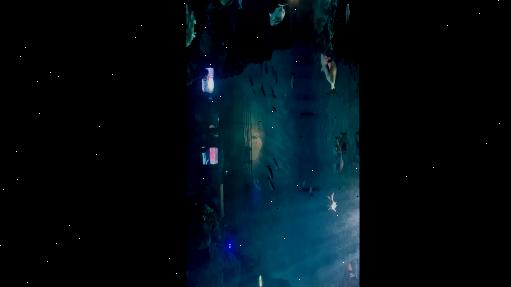Fish: (321, 54, 336, 94), (269, 4, 287, 25), (327, 193, 336, 211), (335, 154, 343, 173), (341, 132, 348, 153), (303, 187, 319, 196), (334, 137, 340, 155), (348, 265, 356, 277), (254, 179, 261, 190), (268, 178, 274, 190), (267, 166, 273, 178), (273, 158, 278, 170), (346, 4, 349, 24), (261, 84, 265, 96), (292, 72, 295, 88), (249, 76, 253, 87), (271, 66, 275, 77), (239, 0, 243, 10), (257, 178, 261, 187), (301, 113, 313, 116), (356, 138, 359, 150), (265, 64, 268, 74), (348, 264, 352, 271), (271, 87, 274, 95), (275, 73, 277, 83), (272, 94, 276, 99), (260, 64, 262, 74), (273, 107, 276, 113), (253, 90, 256, 96), (303, 181, 305, 187)
